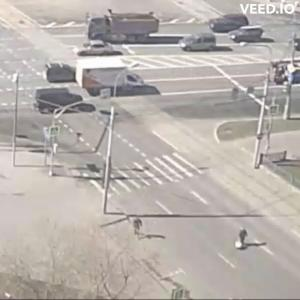car: (79, 56, 155, 98), (89, 8, 160, 45), (34, 89, 92, 114), (181, 32, 228, 56), (213, 19, 263, 41), (68, 39, 115, 57), (211, 16, 250, 36), (41, 60, 79, 80), (229, 26, 266, 45), (289, 71, 300, 86)
